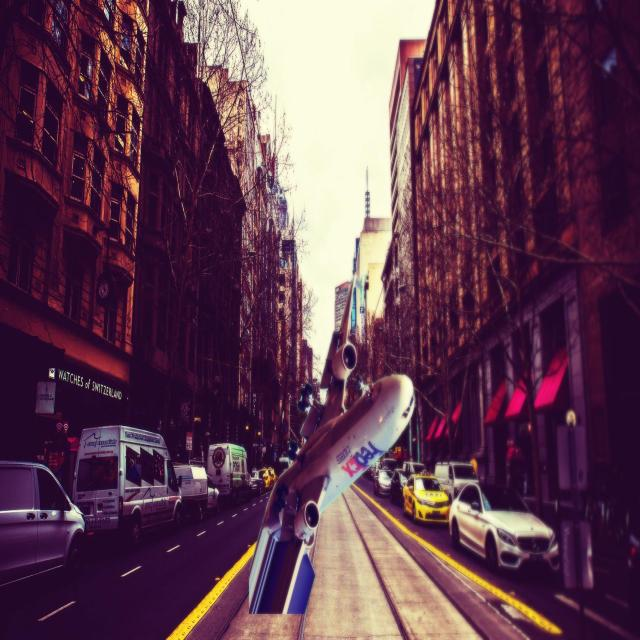airplane: (248, 245, 415, 615)
